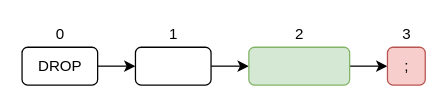
Some shapes in this 447 by 107 pixel diagram are drawn without their labels. The centre of each missing label's shape, as x and y in pixels:
TABLE: [172,65]
Table Name: [299,65]
